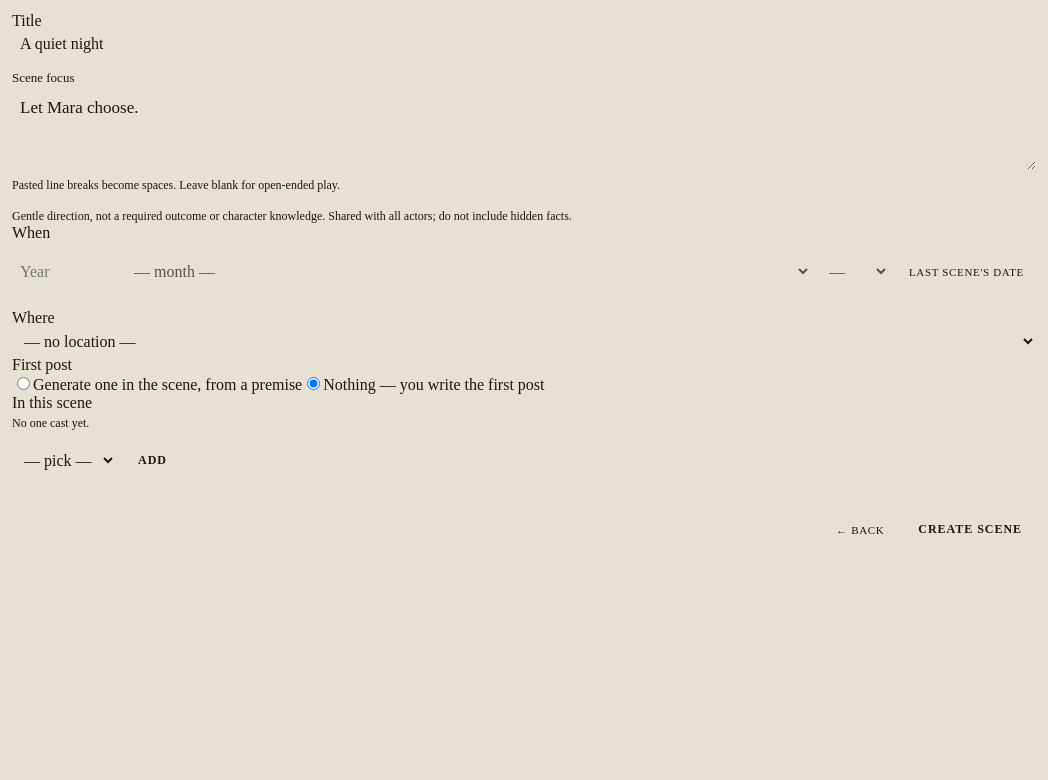
Test: date fill cannot resurrect a focus the author cleared
Clear the text box labelled "Scene focus" at (524, 130), box [12, 90, 1036, 170]
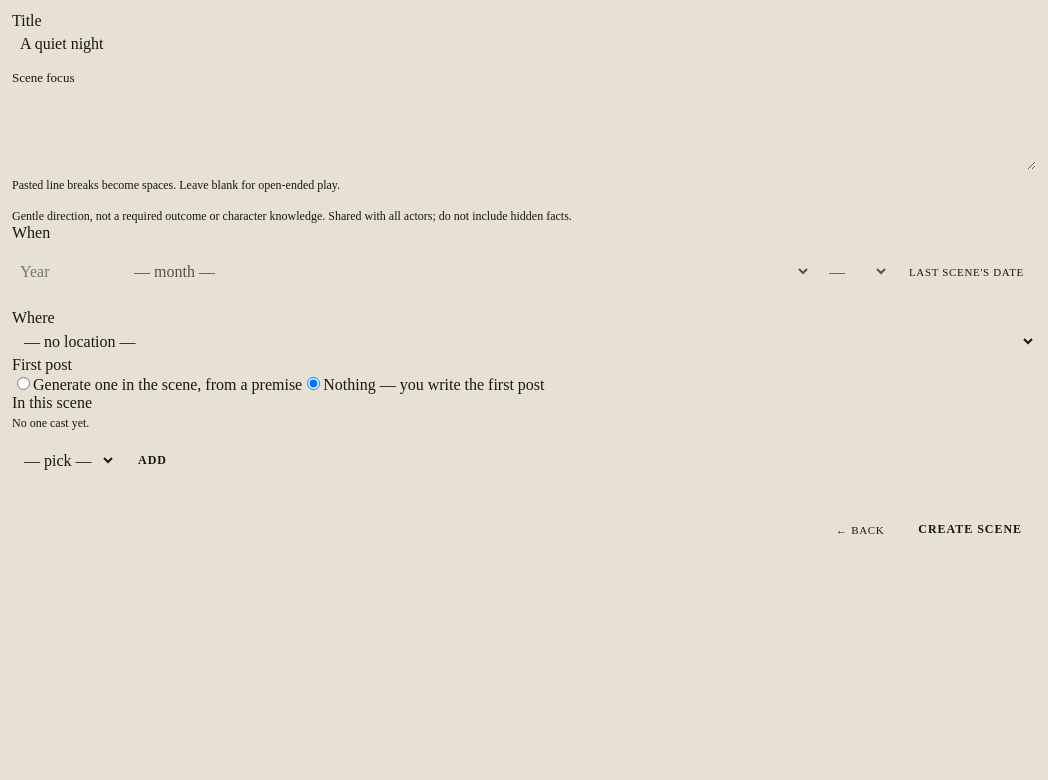
Click the button "Last scene's date".
click(966, 272)  # box [897, 254, 1036, 289]
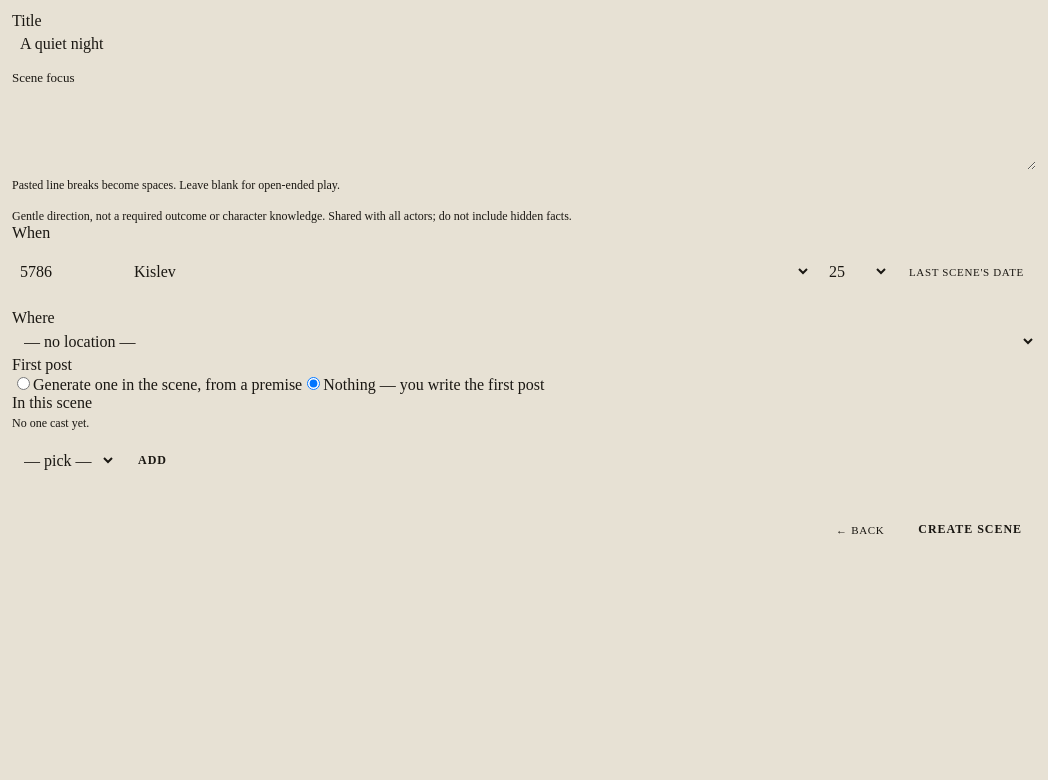
Expected: the dropdown named "Scene date day" shows "25", [817, 254, 889, 289]
